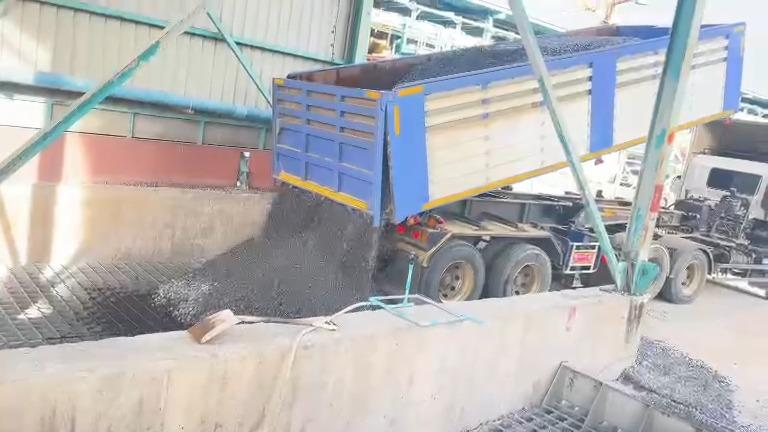gravel: (154, 186, 379, 323), (617, 338, 767, 430), (620, 338, 767, 430), (396, 41, 527, 85), (537, 37, 638, 58)
